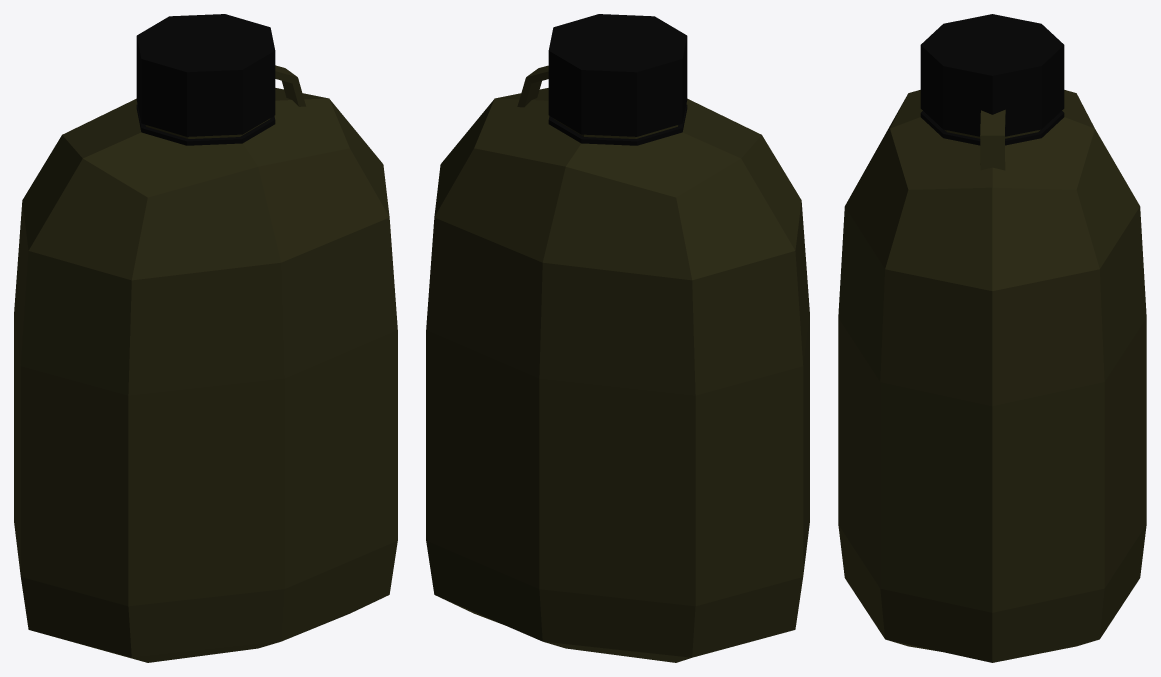
File: Canteen.fbx
The picture shows the model from 3 angles, left to right: view 1: azimuth 30°, elevation 25°; view 2: azimuth 150°, elevation 25°; view 3: azimuth 270°, elevation 25°; orthographic projection.
Visible parts, largest first — view 1: Canteen; view 2: Canteen; view 3: Canteen.
Boxes of the visible parts, x1=… form: Canteen: x1=14, y1=14, x2=397, y2=662; Canteen: x1=426, y1=14, x2=809, y2=662; Canteen: x1=838, y1=14, x2=1146, y2=662.
Size of the model in its own units: 20.91 by 30.96 by 15.37.
